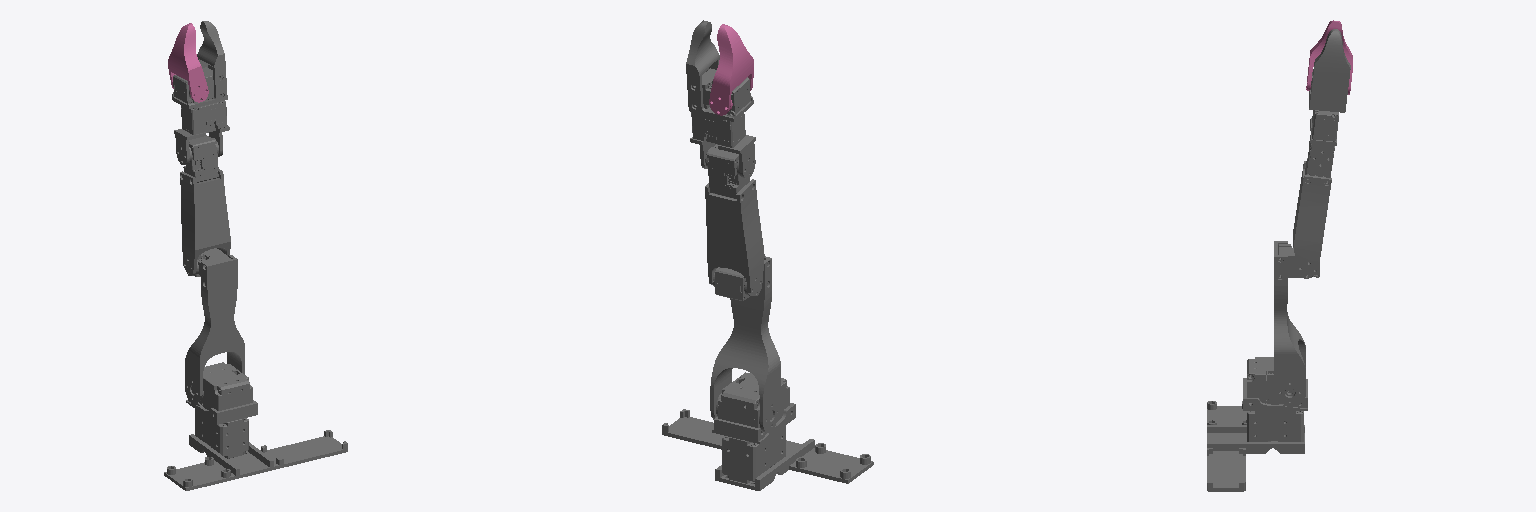
The robot description file, URDF, robot "myfirst":
<?xml version="1.0"?>
<robot name="myfirst">

  <link name="base_link">
  <visual>
    <origin rpy="0.0 0.0 0.0" xyz="0.0 0.0 0.0"/>
      <geometry>
        <mesh filename="package://robot_description/mesh/base_link.stl">
        </mesh>
      </geometry>
      <material name="gray">
        <color rgba="0.5 0.5 0.5 1.0"/>
      </material>
    </visual>
  </link> 
  
  <link name="link_1">
   <visual>
    <origin rpy="3.141592 0.0 3.141592" xyz="0.0 0.0 0.0563"/>
      <geometry>
        <mesh filename="package://robot_description/mesh/link_1.stl">
        </mesh>
      </geometry>
      <material name="gray">
        <color rgba="0.5 0.5 0.5 1.0"/>
      </material>
    </visual>
  </link>
  
  <link name="link_2">
   <visual>
    <origin rpy="3.141592 0.0 0.0" xyz="0.0148 -0.1083 0.0"/>
      <geometry>
        <mesh filename="package://robot_description/mesh/link_2.stl">
        </mesh>
      </geometry>
      <material name="gray">
        <color rgba="0.5 0.5 0.5 1.0"/>
      </material>
    </visual>
  </link>
  
  <link name="link_3">
   <visual>
    <origin rpy="3.141592 0.0 0.0" xyz="0.100471 -0.002879 0.0"/>
      <geometry>
        <mesh filename="package://robot_description/mesh/link_3.stl">
        </mesh>
      </geometry>
      <material name="gray">
        <color rgba="0.5 0.5 0.5 1.0"/>
      </material>
    </visual>
  </link>
  
  <link name="link_4">
   <visual>
    <origin rpy="0 -1.5708 3.1416" xyz="0.0305 0.000007 0.001353"/>
      <geometry>
        <mesh filename="package://robot_description/mesh/link_4.stl">
        </mesh>
      </geometry>
      <material name="gray">
        <color rgba="0.5 0.5 0.5 1.0"/>
      </material>
    </visual>
  </link>
  
  <link name="link_5">
    <visual>
     <origin rpy="-1.5708 0.0 1.5708" xyz="0.0 0.0075 0.058"/>
      <geometry>
        <mesh filename="package://robot_description/mesh/link_5.stl">
        </mesh>
      </geometry>
      <material name="gray">
        <color rgba="0.5 0.5 0.5 1.0"/>
      </material>
    </visual>
  </link>
  
  <link name="gripper_move">
    <visual>
     <origin rpy="-1.5708 0.0 1.5708" xyz="0.0 0.0 0.0"/>
      <geometry>
        <mesh filename="package://robot_description/mesh/gripper_move.stl">
        </mesh>
      </geometry>
    </visual>
  </link>
  
  <link name="tcp">
  </link>
  
    
   <joint name="theta_1" type="continuous">
    <parent link="base_link"/>
    <child link="link_1"/>
    <axis xyz="0 0 1"/>
    <origin xyz="0.0 0.0 0.0"/>
  </joint>

  <joint name="theta_2" type="continuous">
    <parent link="link_1"/>
    <child link="link_2"/>
    <axis xyz="0 0 1"/>
    <origin xyz="0.0 0.0 0.0563" rpy="-1.5708 0 1.5708"/>
  </joint>
  
  <joint name="theta_3" type="continuous">
    <parent link="link_2"/>
    <child link="link_3"/>
    <axis xyz="0 0 1"/>
    <origin xyz="0.0148 -0.1083 0.0" rpy="0 0 -1.43498"/>
  </joint>
  
  <joint name="theta_4" type="continuous">
    <parent link="link_3"/>
    <child link="link_4"/>
    <axis xyz="0 0 1"/>
    <origin xyz="0.100471 -0.002879 0.0" rpy="0 0 -0.028647"/>
  </joint>
  
  <joint name="theta_5" type="continuous">
    <parent link="link_4"/>
    <child link="link_5"/>
    <axis xyz="0 0 1"/>
    <origin xyz="0.0 0.000007 -0.001353" rpy="1.5708 0 1.5708"/>
  </joint>
  
  <joint name="theta_6" type="continuous">
    <parent link="link_5"/>
    <child link="gripper_move"/>
    <axis xyz="1 0 0"/>
    <origin xyz="0.0 0.0075 0.05815" rpy="0 0 0"/>
  </joint>
  
  <joint name="tcp" type="fixed">
    <parent link="link_5"/>
    <child link="tcp"/>
    <axis xyz="0 0 1"/>
    <origin xyz="0.0 -0.00738 0.11387" rpy="0 0 0"/>
  </joint>
  
</robot>

--- What the picture shows (computed from the rendered views, not written in the file) ---
Views: 3 orthographic renders of the robot side by side, from view 1: azimuth 30°, elevation 25°; view 2: azimuth 150°, elevation 25°; view 3: azimuth 270°, elevation 25°.
Model myfirst with 8 links and 7 joints (6 continuous, 1 fixed), rooted at base_link, posed every joint at zero.
Visible links, largest first — view 1: base_link, link_2, link_3, link_1, link_5, link_4, gripper_move; view 2: base_link, link_2, link_3, link_1, link_5, link_4, gripper_move; view 3: base_link, link_2, link_3, link_5, link_1, link_4, gripper_move.
Link boxes in pixels (x1,y1,x2,y2): base_link: (164, 409, 347, 490); link_2: (185, 248, 244, 404); link_3: (180, 135, 230, 275); link_1: (186, 362, 257, 424); link_5: (172, 21, 227, 108); link_4: (174, 101, 229, 164); gripper_move: (168, 23, 208, 102); base_link: (662, 409, 873, 490); link_2: (710, 256, 780, 432); link_3: (705, 144, 764, 295); link_1: (712, 372, 795, 443); link_5: (686, 20, 753, 121); link_4: (690, 112, 755, 178); gripper_move: (709, 24, 753, 115); base_link: (1207, 401, 1304, 491); link_2: (1274, 241, 1319, 406); link_3: (1293, 132, 1334, 278); link_5: (1309, 29, 1350, 112); link_1: (1243, 357, 1307, 410); link_4: (1310, 110, 1338, 168); gripper_move: (1306, 20, 1352, 94).
Size in the robot's own frame: 0.1585 by 0.1196 by 0.379 metres.
Meshes: 7 distinct files referenced, 7 mesh visuals loaded (7 binary STL).
